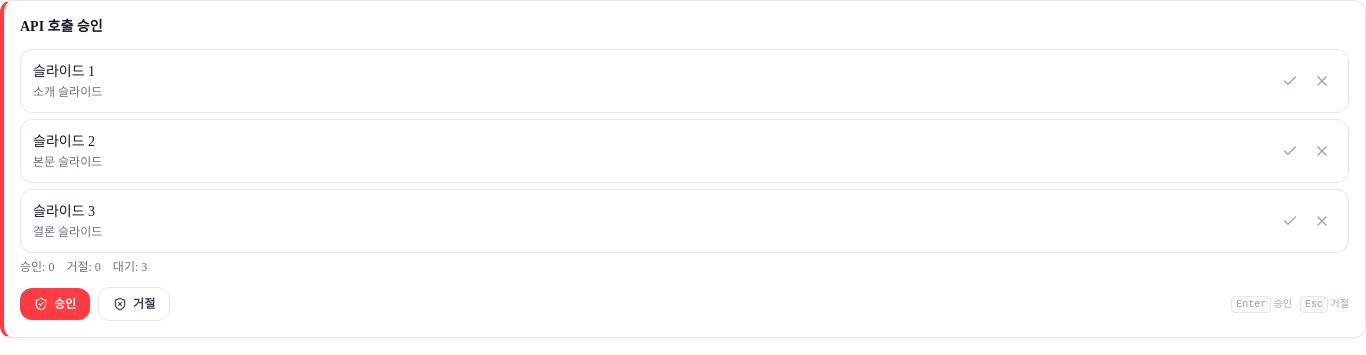
Test: ApprovalGate › updates item status when individual item is approved
Click the button named "슬라이드 1 승인": (1290, 81) x1=1276 y1=67 x2=1304 y2=95
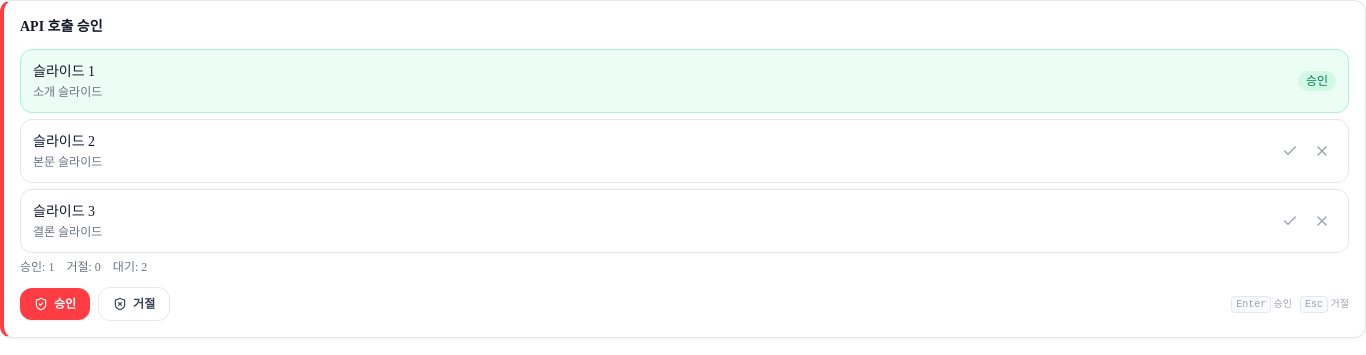
Now the text "승인: 1" is shown, box x1=20 y1=259 x2=54 y2=275
Now the text "대기: 2" is shown, box x1=113 y1=259 x2=147 y2=275
